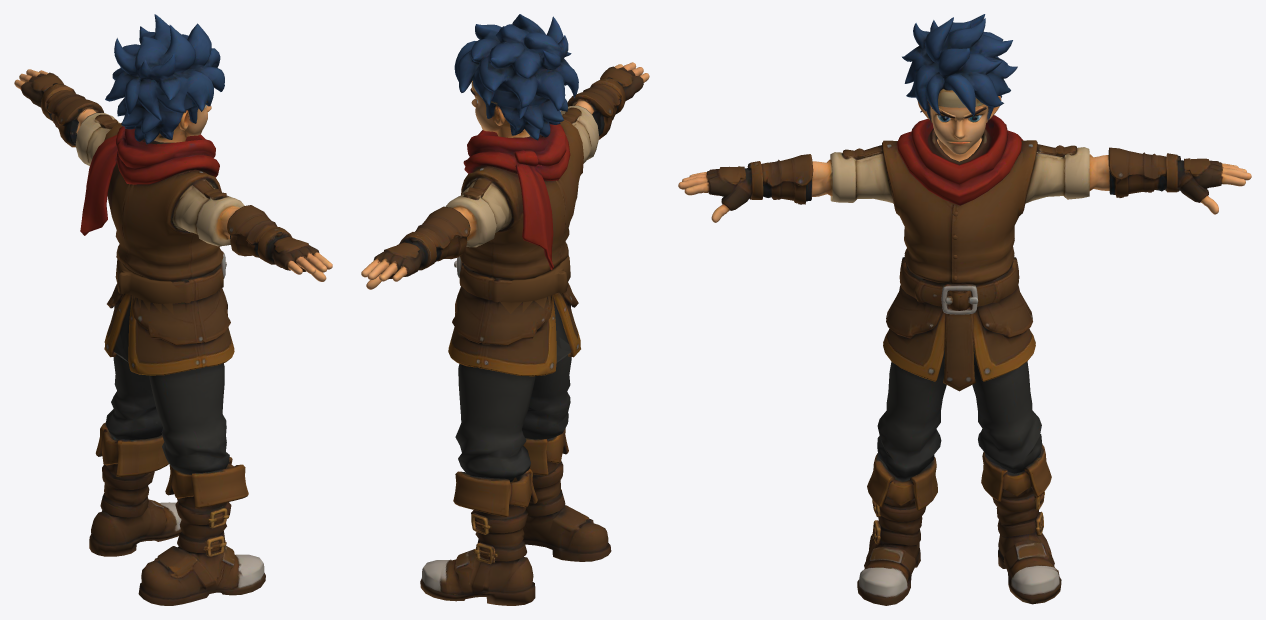
The model's file is Warrior_V3_RAW.glb.
3 views of the same model, side by side, from view 1: azimuth 30°, elevation 25°; view 2: azimuth 150°, elevation 25°; view 3: azimuth 270°, elevation 25° (orthographic). The views are drawn at different scales.
Visible parts, largest first — view 1: tripo_node_f0980b28; view 2: tripo_node_f0980b28; view 3: tripo_node_f0980b28.
Boxes of the visible parts, x1,y1,x2,y2 form: tripo_node_f0980b28: [14, 14, 332, 605]; tripo_node_f0980b28: [361, 14, 649, 605]; tripo_node_f0980b28: [678, 14, 1251, 605].
Bounding box in the file's own units: 0.2358 × 0.9995 × 0.9292.
Materials: 1 (1 with a texture image).
